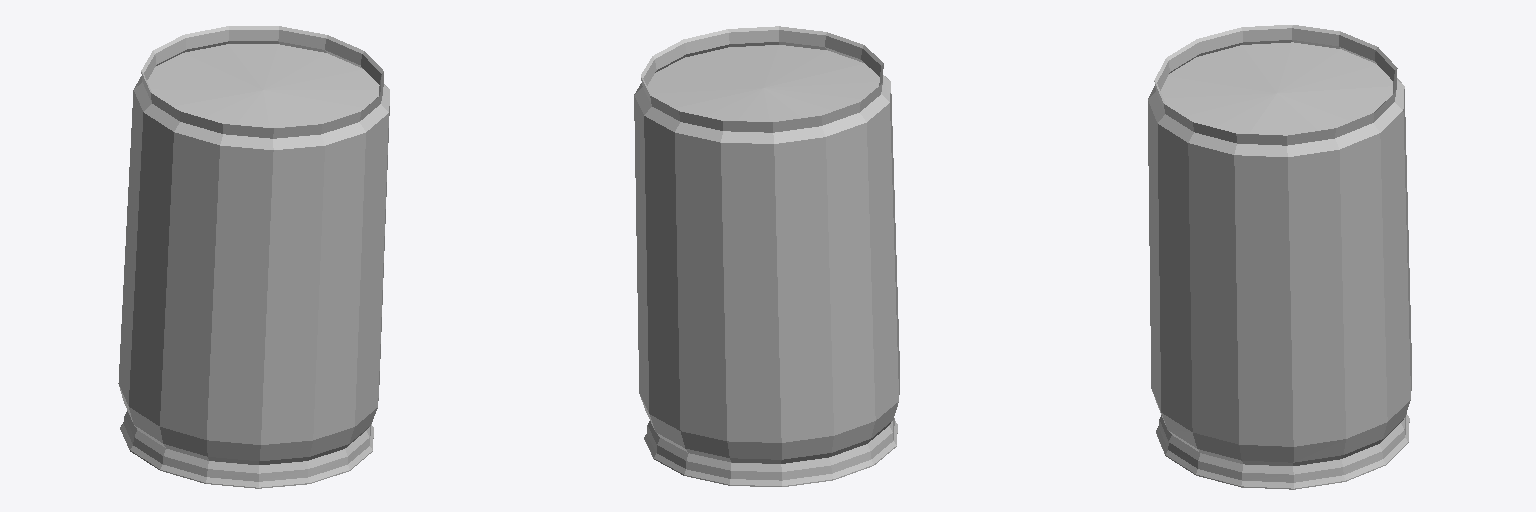
File: can1.obj
3 renders of one model, left to right at view 1: azimuth 30°, elevation 25°; view 2: azimuth 150°, elevation 25°; view 3: azimuth 270°, elevation 25°, orthographic.
Visible parts, largest first — view 1: can; view 2: can; view 3: can.
Part boxes in pixels (x1,y1,x2,y2): can: (118,26,389,488); can: (634,26,899,486); can: (1148,25,1411,489).
Size of the model in its own units: 4.88 by 7.27 by 4.76.